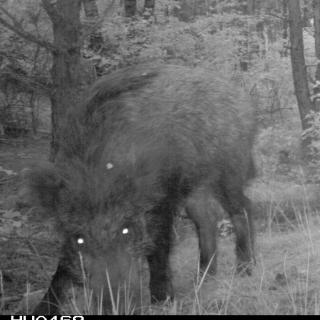Pig: (30, 38, 242, 304)
